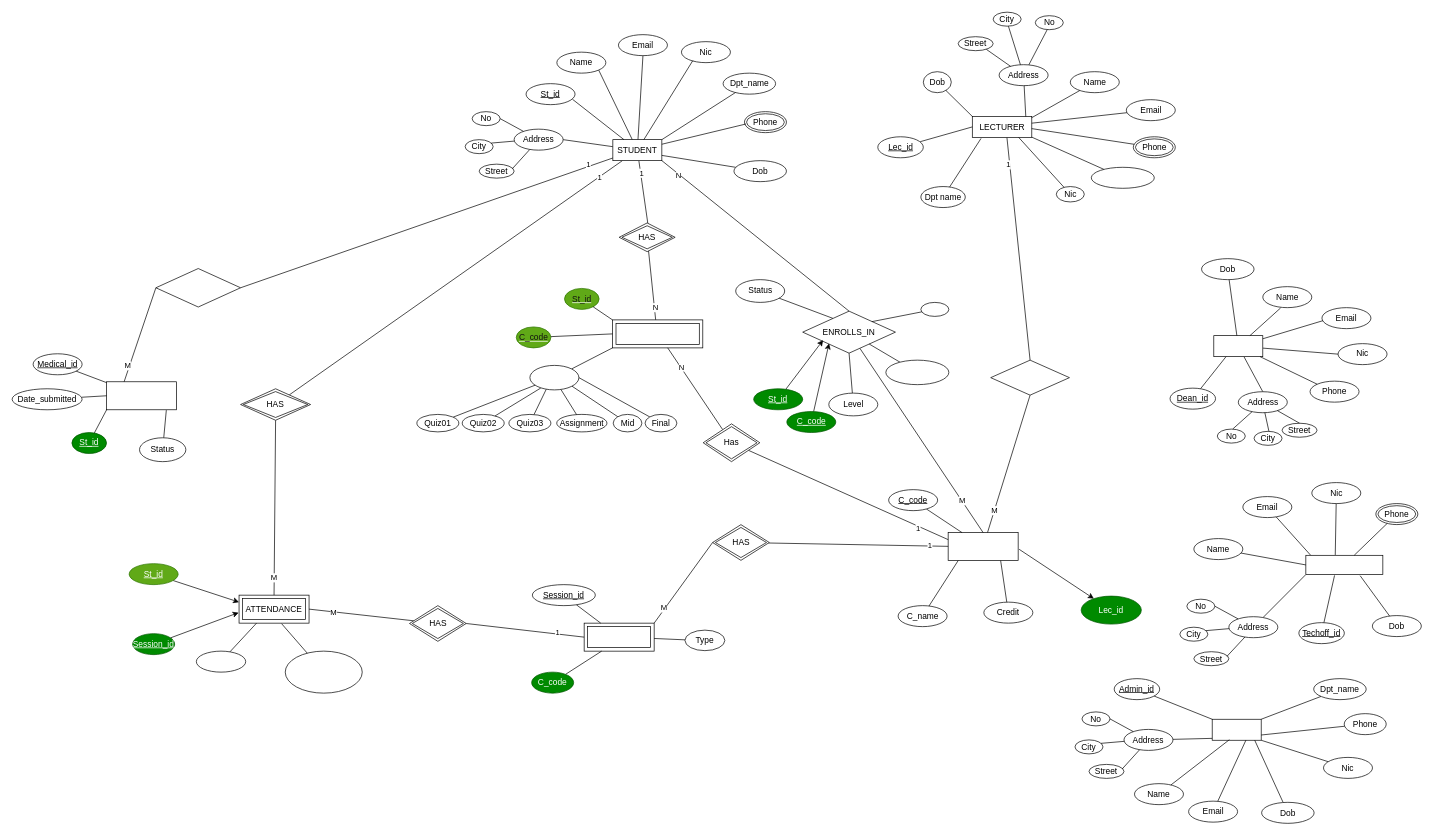
Image size: 1434x836. Some labels were removed from this diagram. The box of each missing label's shape, as (x1, y1, x2, y2) in pixels:
Academic_yr: (885, 359, 949, 385)
ADMIN: (1211, 719, 1261, 740)
COURSE: (947, 532, 1018, 561)
DEAN: (1213, 335, 1263, 357)
Education_lvl: (1091, 167, 1154, 188)
MARK: (612, 319, 703, 348)
Marks: (529, 365, 579, 390)
MEDICAL: (106, 381, 177, 410)
Sem: (920, 302, 949, 316)
SESSION: (583, 622, 654, 651)
Status Practical?theory/Medical: (285, 650, 362, 693)
SUBMITS: (155, 268, 241, 307)
TEACHES: (990, 359, 1069, 395)
TECH_OFFICER: (1305, 555, 1383, 575)
Week_no: (196, 650, 246, 672)
